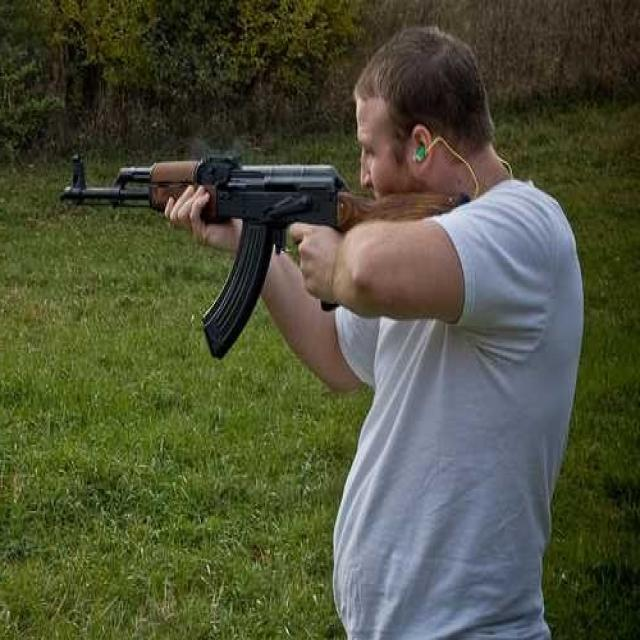heavyweapon: (46, 118, 472, 371)
